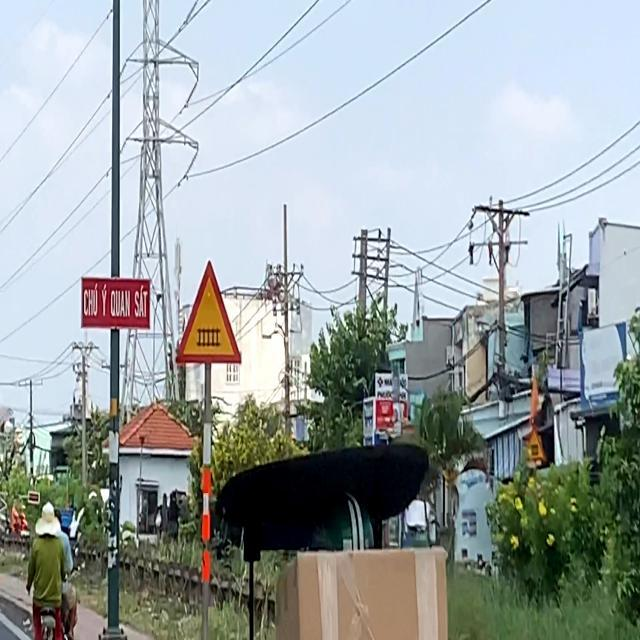Giao nhau voi duong sat co rao chan: (171, 252, 248, 372)
